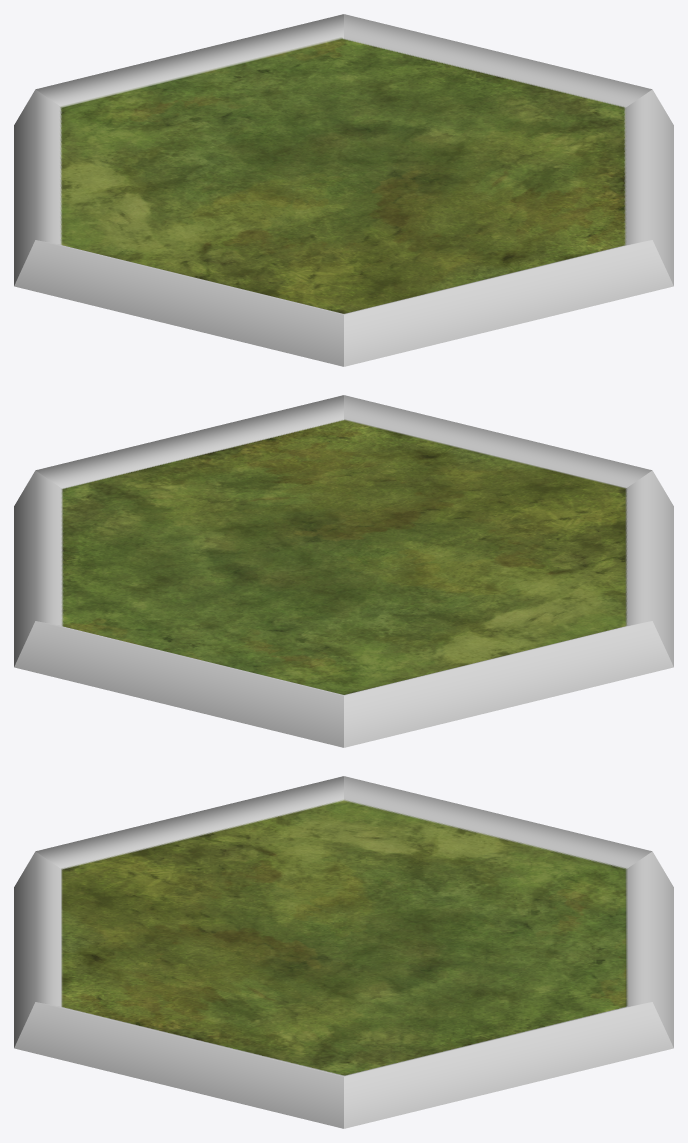
The model's file is HexGrass3.fbx.
3 renders of one model, top to bottom at view 1: azimuth 30°, elevation 25°; view 2: azimuth 150°, elevation 25°; view 3: azimuth 270°, elevation 25°, orthographic.
Visible parts, largest first — view 1: HexGrass3; view 2: HexGrass3; view 3: HexGrass3.
Part boxes in pixels (left/top/right/bottom): HexGrass3: left=14, top=14, right=673, bottom=366; HexGrass3: left=14, top=395, right=673, bottom=747; HexGrass3: left=14, top=776, right=673, bottom=1128.
Bounding box in the file's own units: 2 × 0.1195 × 1.73.
1 material, 1 textured.
